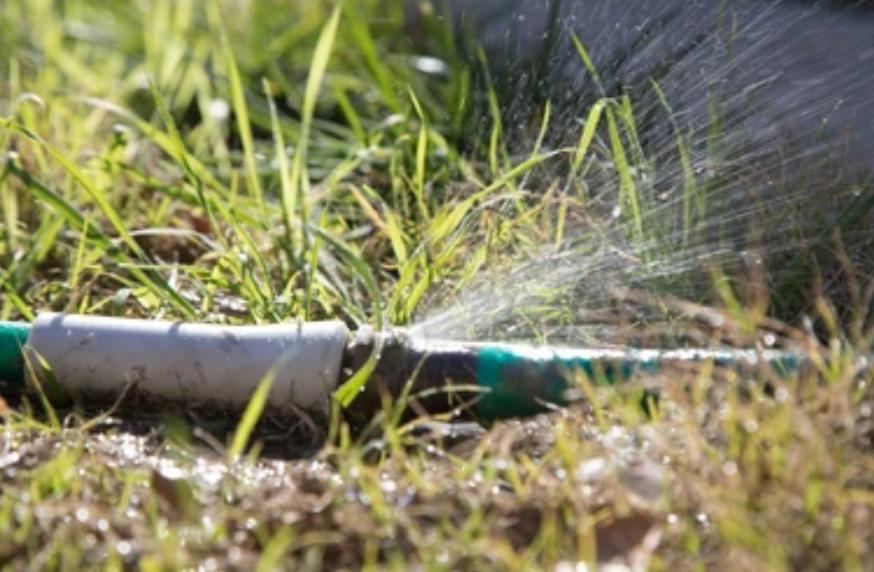pipe burst: (407, 124, 760, 351)
